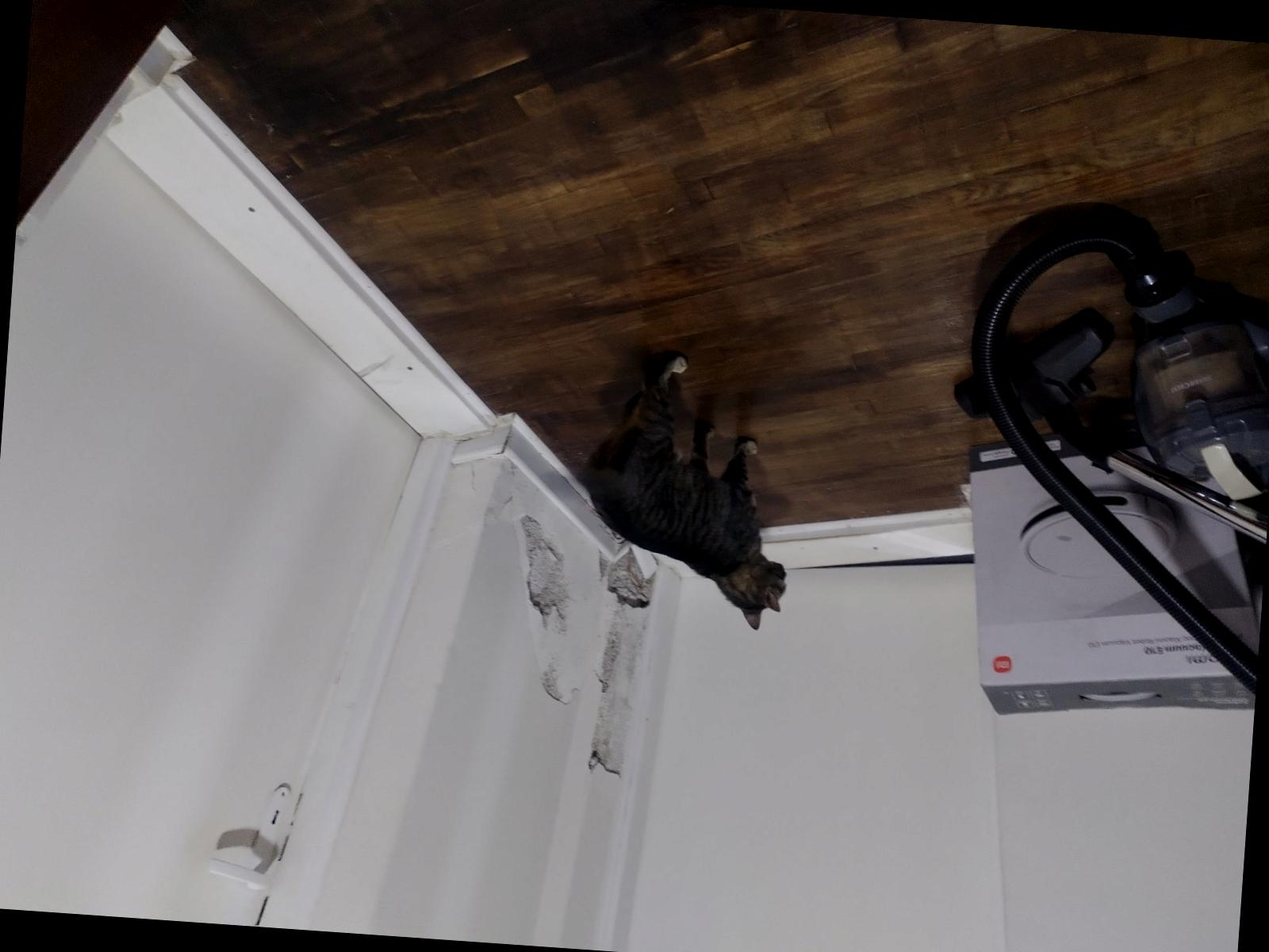macka: (572, 347, 803, 634)
